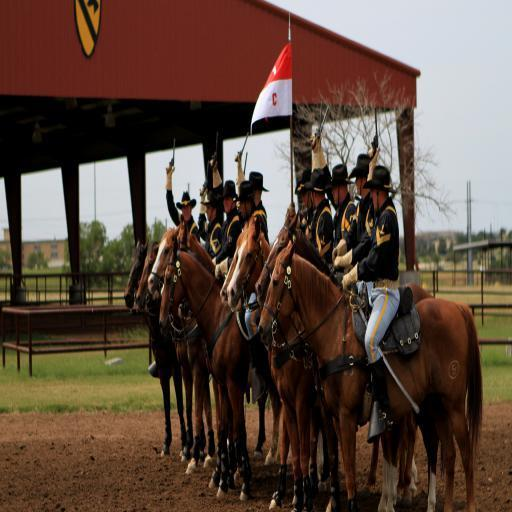horse: (122, 236, 484, 512)
